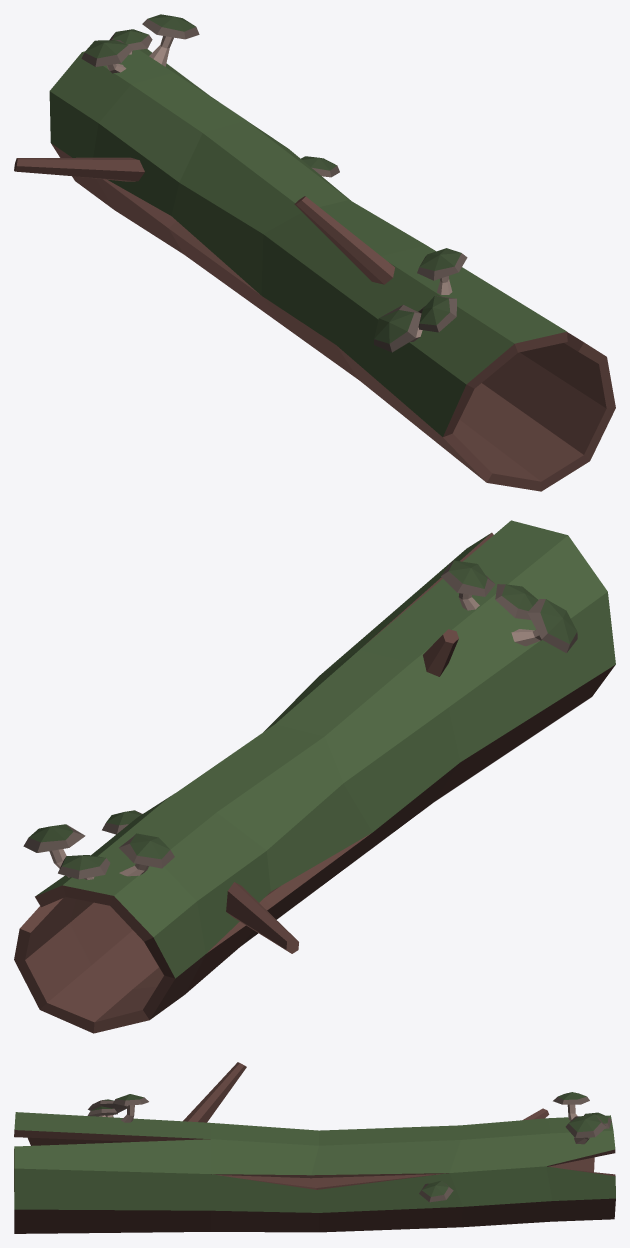
File: WoodLog_Moss.glb
3 renders of one model, top to bottom at view 1: azimuth 30°, elevation 25°; view 2: azimuth 150°, elevation 25°; view 3: azimuth 270°, elevation 25°, orthographic. The views are drawn at different scales.
Visible parts, largest first — view 1: WoodLog_Moss_Cylinder.011; view 2: WoodLog_Moss_Cylinder.011; view 3: WoodLog_Moss_Cylinder.011.
Part boxes in pixels (bbox=[...]): WoodLog_Moss_Cylinder.011: bbox=[14, 14, 615, 491]; WoodLog_Moss_Cylinder.011: bbox=[14, 520, 615, 1033]; WoodLog_Moss_Cylinder.011: bbox=[14, 1062, 615, 1233].
Size of the model in its own units: 0.8965 by 0.6882 by 2.67.
1 material, 1 textured.
